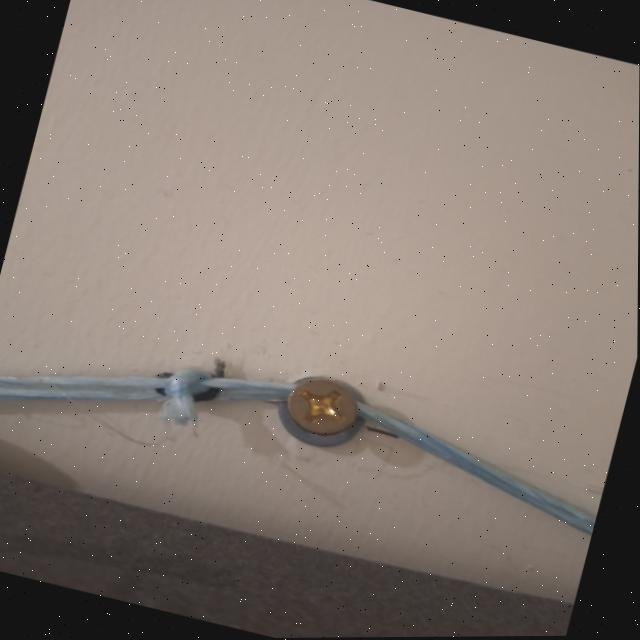Phillips: (287, 374, 364, 437)
